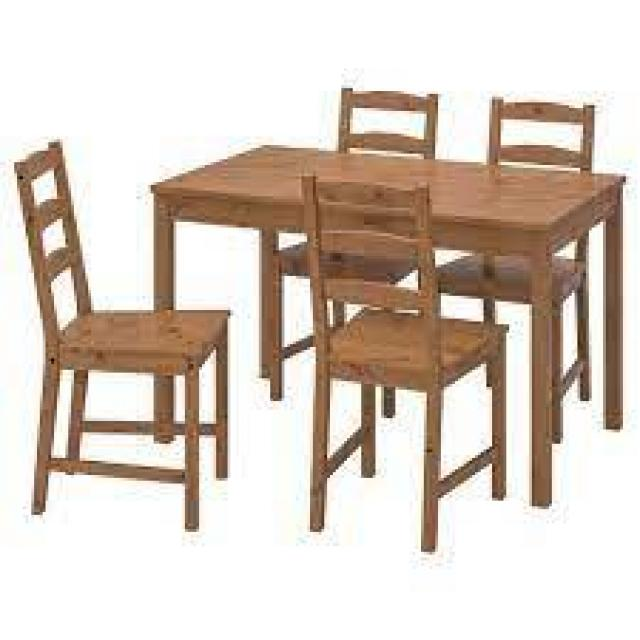chair: (6, 87, 236, 539)
